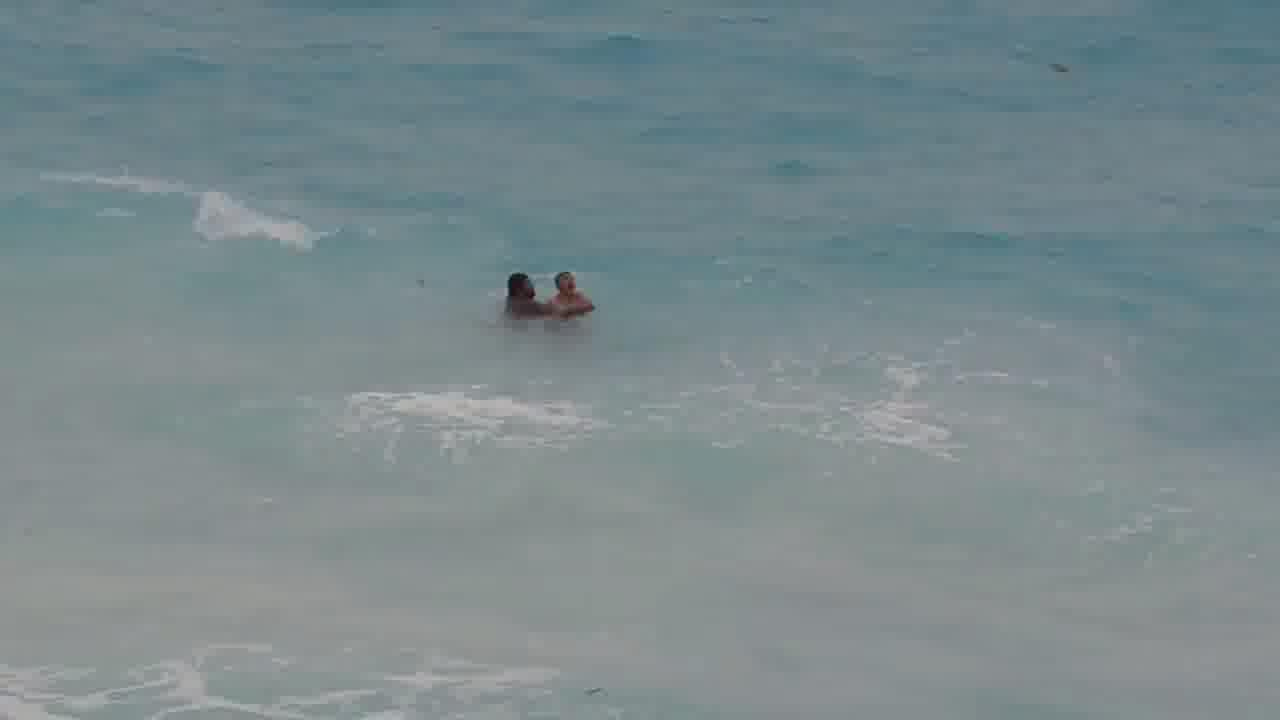swimmer: (544, 263, 592, 316), (497, 258, 532, 313)
